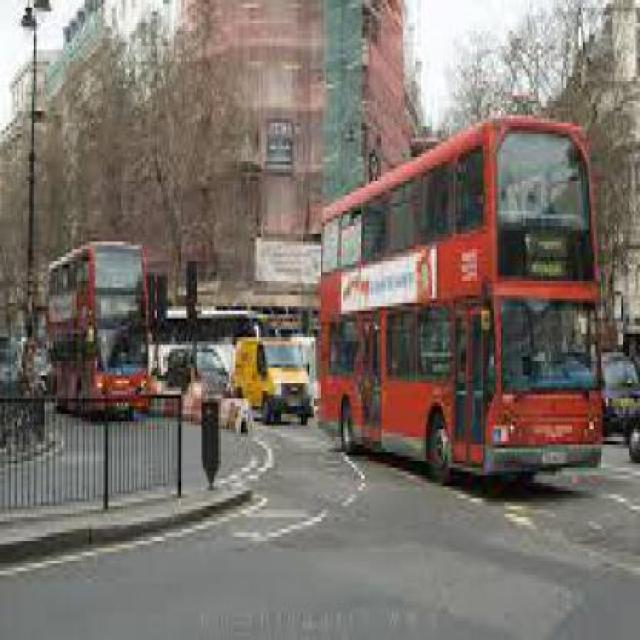bus: (314, 113, 602, 482)
